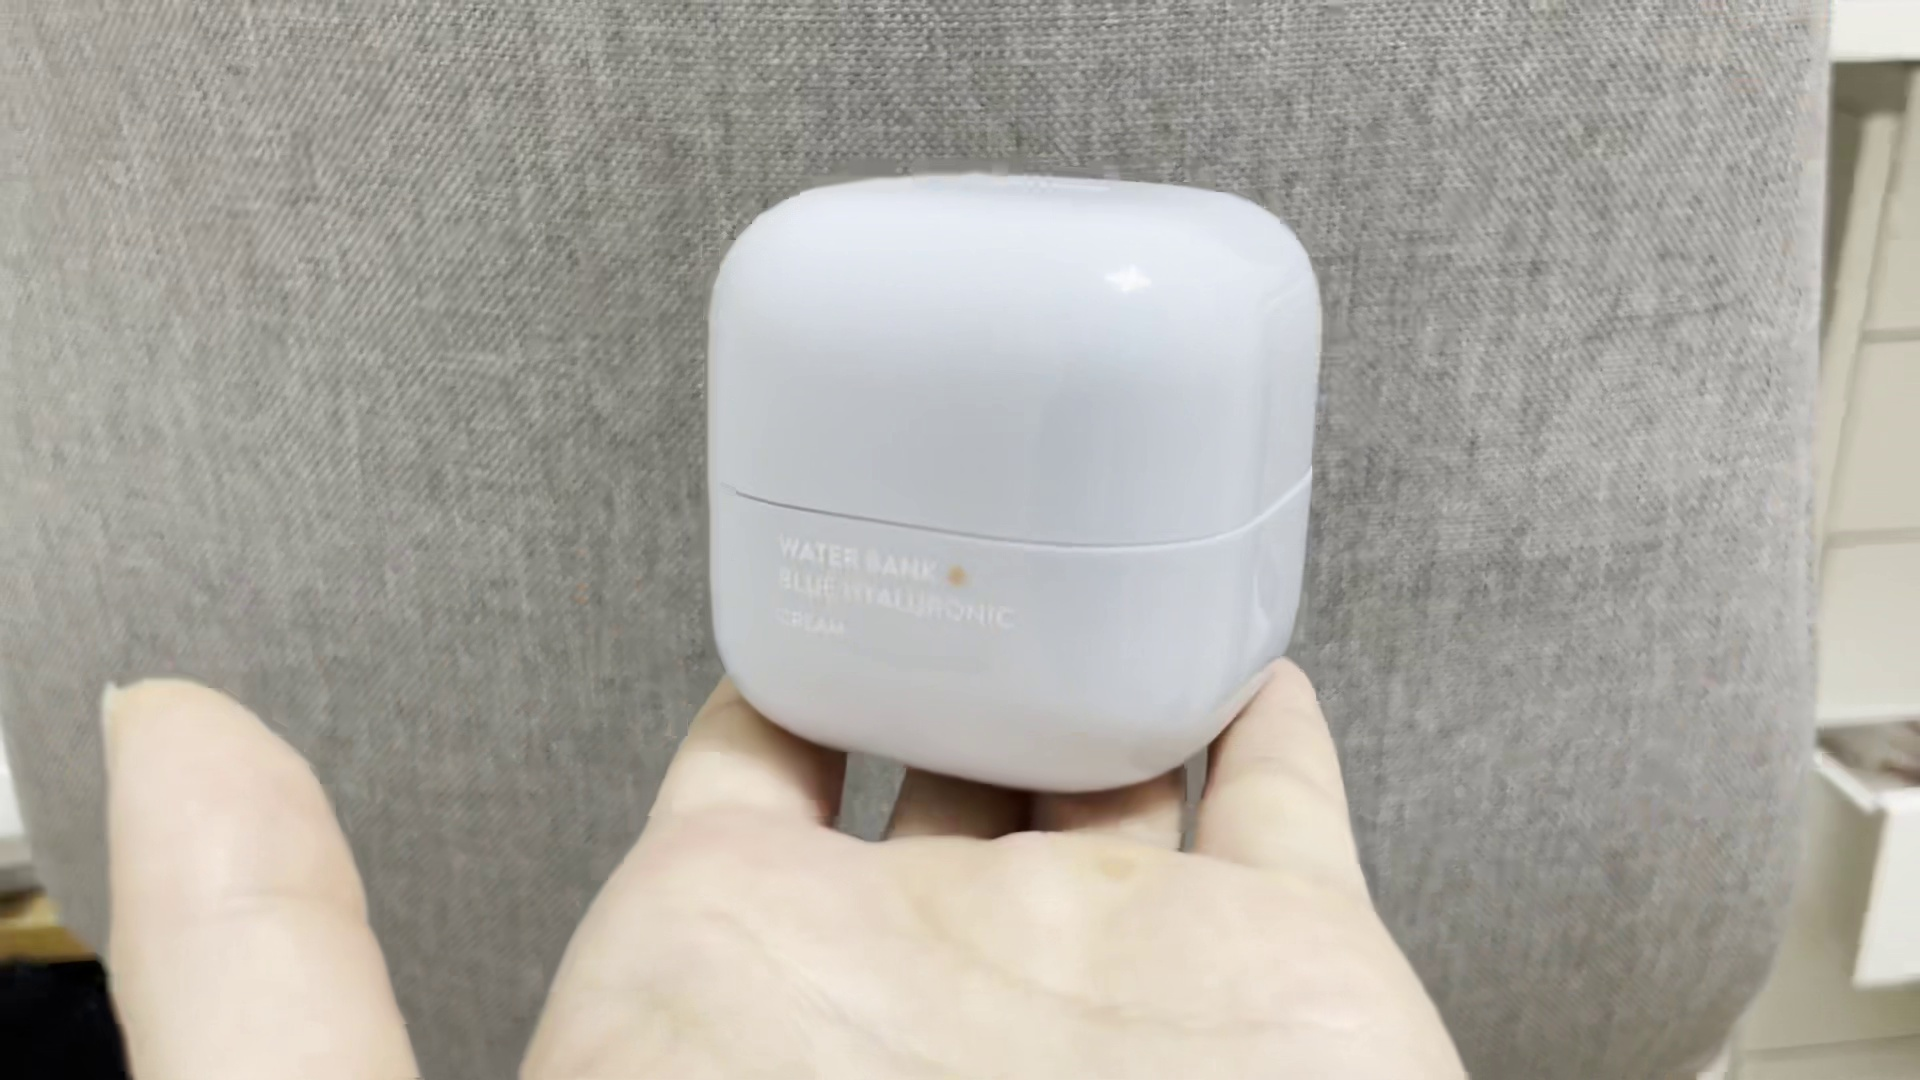cream: (709, 171, 1308, 794)
